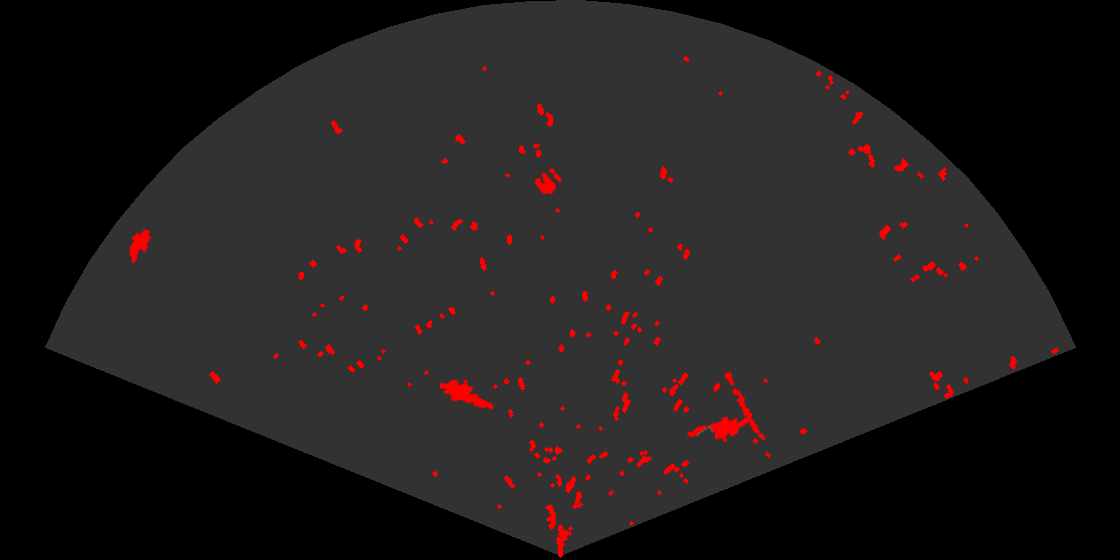AUV: (127, 227, 153, 265)
ball: (533, 166, 564, 196)
chain: (721, 366, 767, 442)
frogman: (685, 414, 749, 444), (440, 377, 495, 411)
